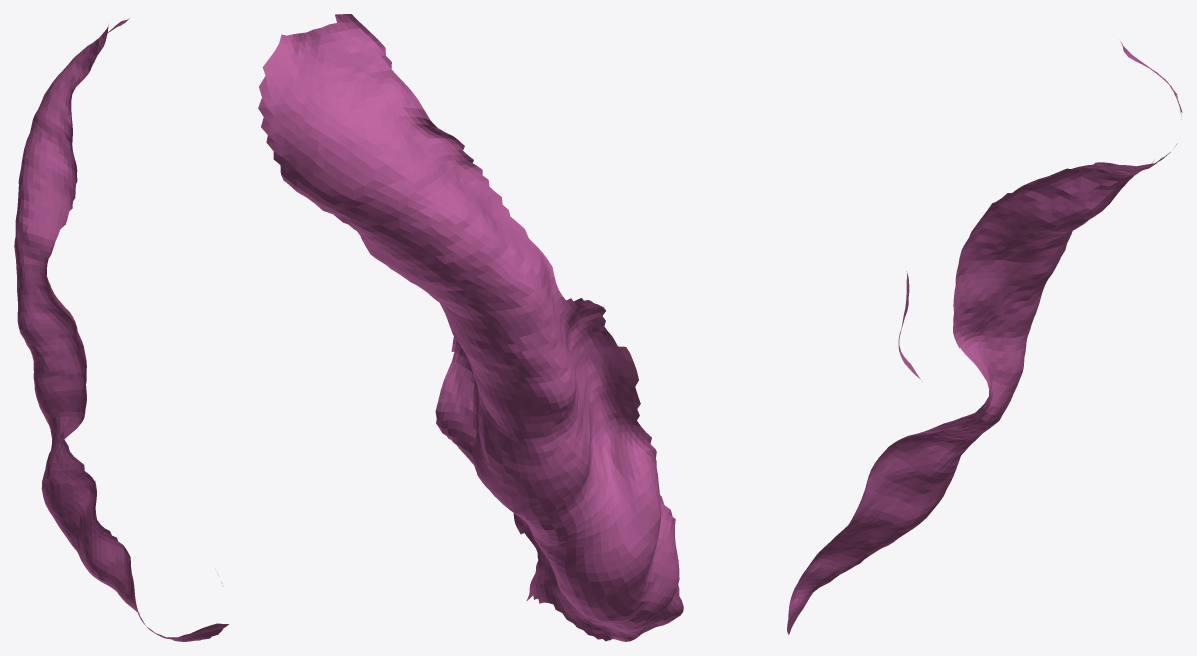
Rendered from lh_inferiortemporal.glb.
3 views of the same model, side by side, from view 1: azimuth 30°, elevation 25°; view 2: azimuth 150°, elevation 25°; view 3: azimuth 270°, elevation 25° (orthographic). The views are drawn at different scales.
Visible parts, largest first — view 1: world; view 2: world; view 3: world.
Boxes of the visible parts, box(x1,y1,x2,y2) form: world: box(14, 18, 228, 641); world: box(258, 14, 683, 641); world: box(787, 41, 1182, 634).
Size of the model in its own units: 25.87 by 73.69 by 47.87.
